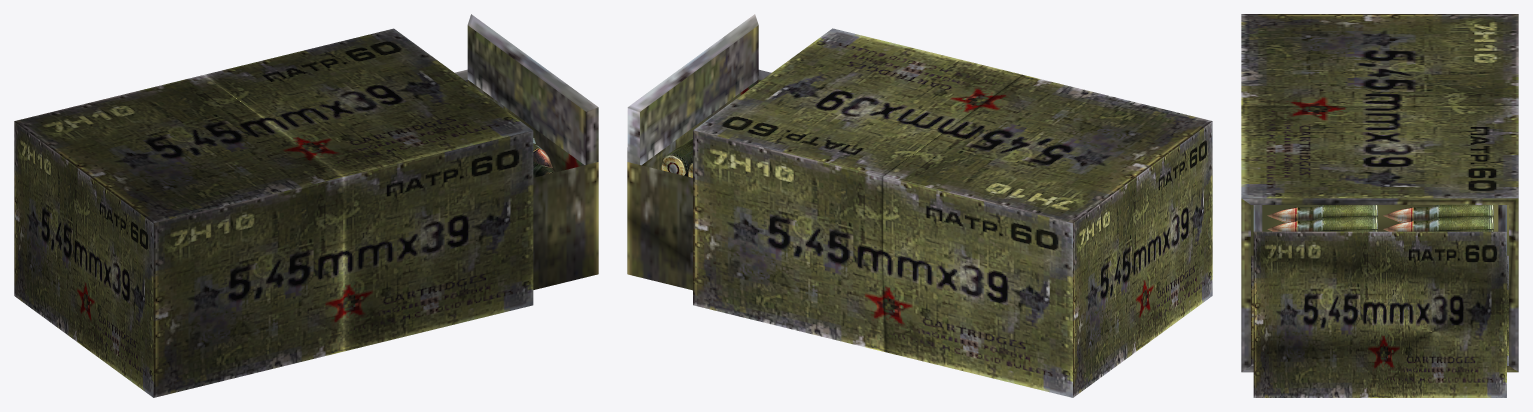
Rendered from ammo_545x39_fmj.fbx.
3 views of the same model, side by side, from view 1: azimuth 30°, elevation 25°; view 2: azimuth 150°, elevation 25°; view 3: azimuth 270°, elevation 25° (orthographic).
Visible parts, largest first — view 1: 0; view 2: 0; view 3: 0.
Boxes of the visible parts, <box> form: 0: <box>14,14,598,397</box>; 0: <box>627,14,1212,397</box>; 0: <box>1241,14,1518,397</box>.
Bounding box in the file's own units: 0.2283 × 0.0852 × 0.1222.
